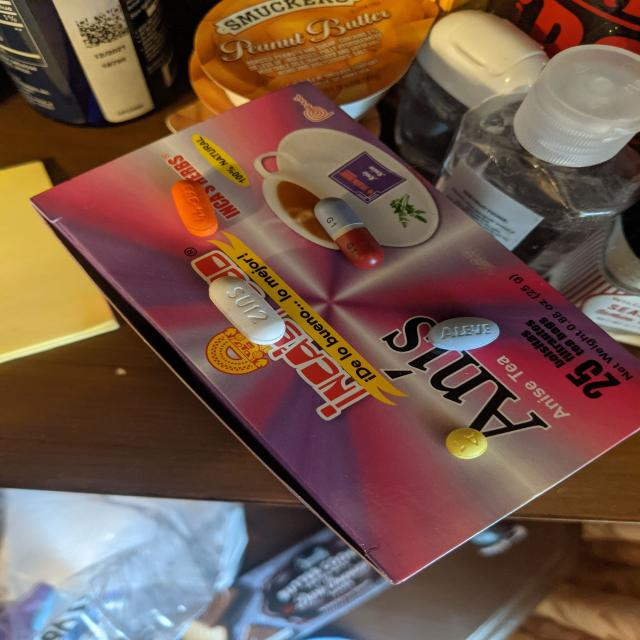non-organic waste: (313, 196, 387, 271), (208, 275, 286, 346), (170, 179, 219, 237), (426, 316, 501, 351), (444, 426, 488, 461)
